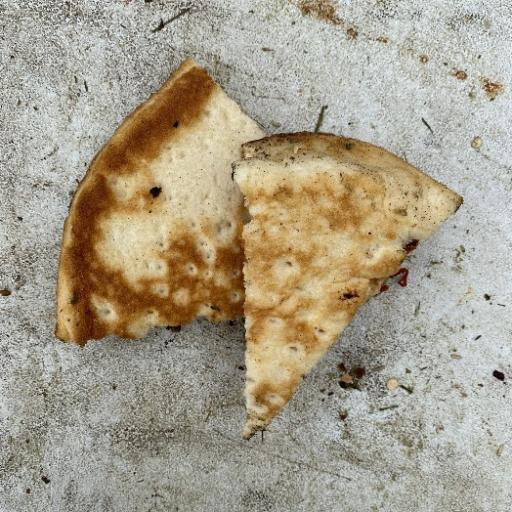Waste: (53, 56, 464, 440), (231, 129, 464, 441), (53, 56, 267, 348)
